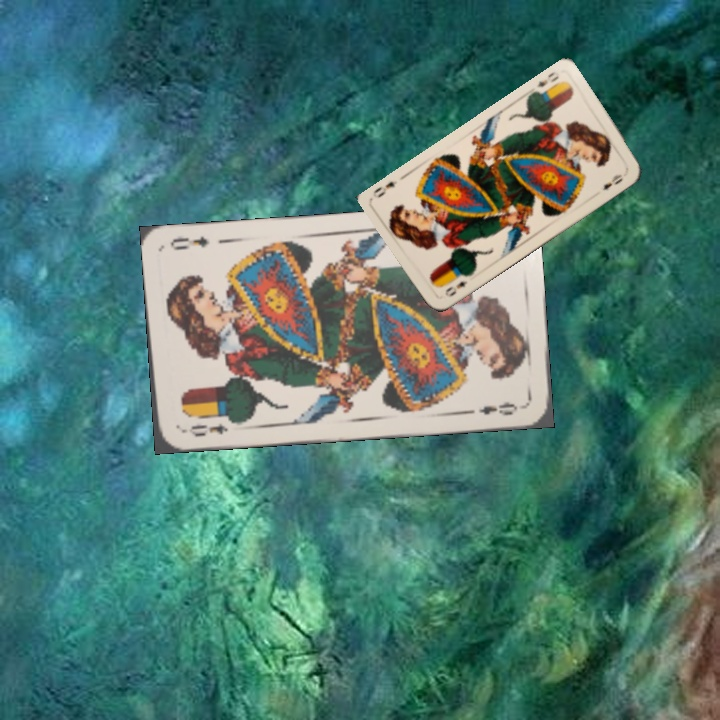EO: (178, 419, 230, 439), (441, 277, 470, 300), (532, 67, 561, 90)
